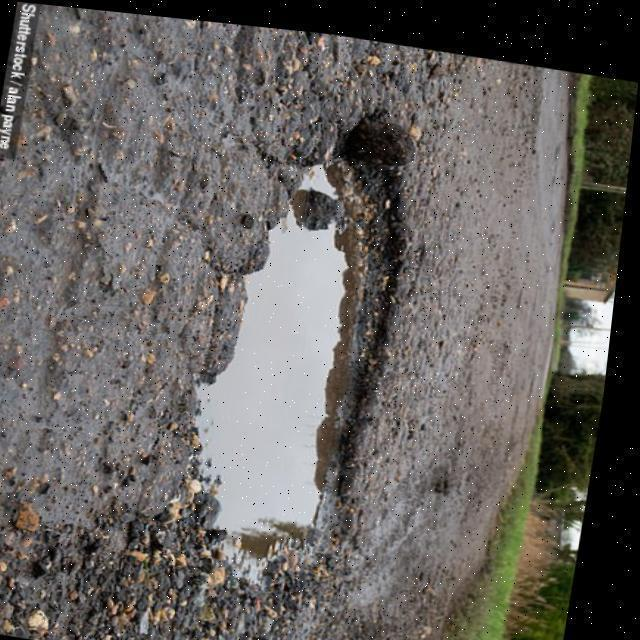Pothole: (184, 120, 425, 609)
